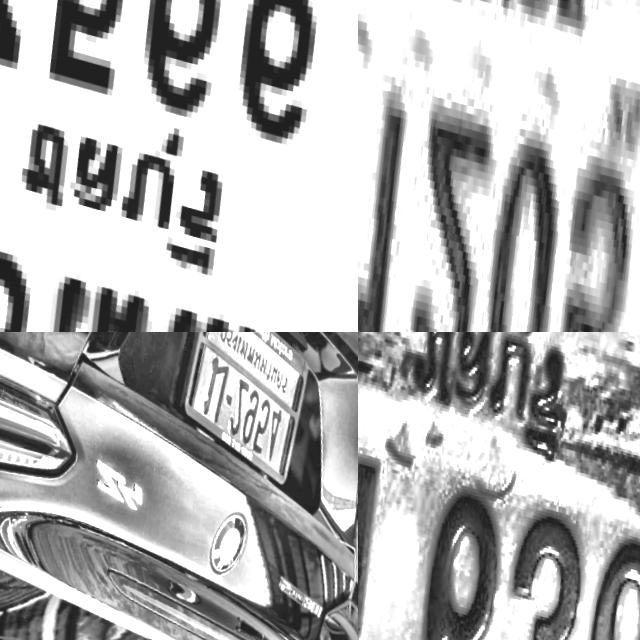license-plate: (0, 0, 358, 332), (358, 0, 640, 332), (358, 332, 640, 640), (136, 332, 343, 498)
